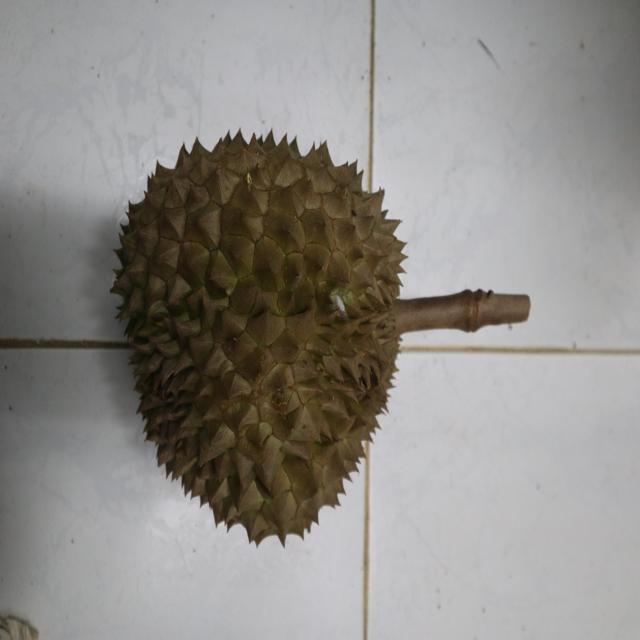mature: (114, 126, 408, 548)
